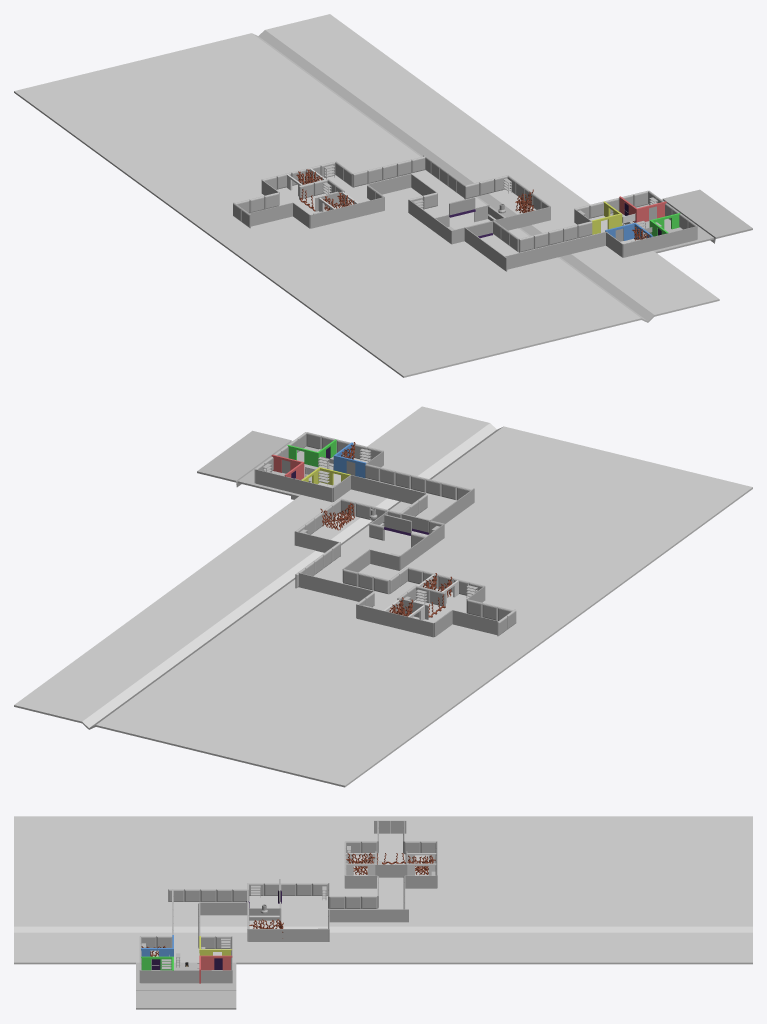
File: Labaratotius.fbx
The picture shows the model from 3 angles, top to bottom: view 1: azimuth 30°, elevation 25°; view 2: azimuth 150°, elevation 25°; view 3: azimuth 270°, elevation 25°; orthographic projection. The views are drawn at different scales.
Visible parts, largest first — view 1: Cube, Cube.047, Cube.035, Cube.006, Cube.018, Cube.034, Cube.040, Cube.022, Cube.041, Cube.007, Cube.036, Cube.024 (+2 smaller); view 2: Cube, Cube.047, Cube.035, Cube.007, Cube.041, Cube.034, Cube.018, Cube.006, Cube.040, Cube.010, Cube.024, Cube.001; view 3: Cube, Cube.047, Cube.019, Cube.023, Cube.036, Cube.024, Cube.037, Cube.020, Cube.008, Cube.043, Cube.046, Cube.009 (+8 smaller).
Part boxes in pixels (left/top/right/bottom): Cube: left=14, top=14, right=719, bottom=377; Cube.047: left=610, top=189, right=752, bottom=253; Cube.035: left=505, top=232, right=605, bottom=269; Cube.006: left=310, top=197, right=384, bottom=228; Cube.018: left=352, top=156, right=425, bottom=187; Cube.034: left=519, top=221, right=592, bottom=252; Cube.040: left=623, top=226, right=696, bottom=257; Cube.022: left=492, top=206, right=550, bottom=233; Cube.041: left=575, top=190, right=647, bottom=218; Cube.007: left=261, top=161, right=335, bottom=189; Cube.036: left=464, top=227, right=507, bottom=271; Cube.024: left=409, top=200, right=451, bottom=243; Cube: left=14, top=406, right=752, bottom=787; Cube.047: left=197, top=430, right=345, bottom=499; Cube.035: left=365, top=464, right=471, bottom=500; Cube.007: left=357, top=604, right=434, bottom=637; Cube.041: left=255, top=469, right=332, bottom=502; Cube.034: left=350, top=475, right=426, bottom=504; Cube.018: left=297, top=572, right=374, bottom=601; Cube.006: left=408, top=567, right=484, bottom=596; Cube.040: left=306, top=432, right=383, bottom=461; Cube.010: left=343, top=569, right=389, bottom=594; Cube.024: left=399, top=524, right=444, bottom=570; Cube.001: left=452, top=610, right=498, bottom=634; Cube: left=14, top=816, right=752, bottom=964; Cube.047: left=136, top=962, right=236, bottom=1009; Cube.019: left=329, top=909, right=408, bottom=922; Cube.023: left=248, top=929, right=328, bottom=941; Cube.036: left=168, top=889, right=248, bottom=901; Cube.024: left=248, top=883, right=328, bottom=895; Cube.037: left=200, top=902, right=248, bottom=915; Cube.020: left=329, top=896, right=377, bottom=908; Cube.008: left=405, top=875, right=437, bottom=888; Cube.043: left=140, top=970, right=172, bottom=983; Cube.046: left=199, top=955, right=232, bottom=983; Cube.009: left=345, top=875, right=376, bottom=888.
Size of the model in its own units: 51763 by 3924 by 84448.
